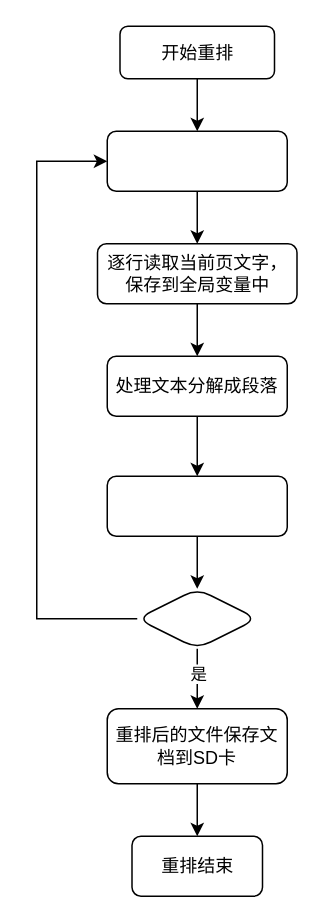
Some shapes in this 324 by 923 pixel diagram are drawn without their labels. Each missing label, with the box of its shape:
是最后一页: (136, 587, 257, 649)
读取一页PDF信息: (106, 130, 287, 191)
逐段写入到重排后PDF中: (106, 475, 287, 536)
